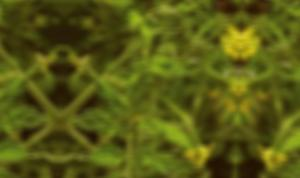Tomato leaf mosaic virus: (136, 121, 193, 150), (70, 109, 119, 141), (133, 154, 194, 178), (86, 146, 127, 170), (86, 175, 124, 178)
